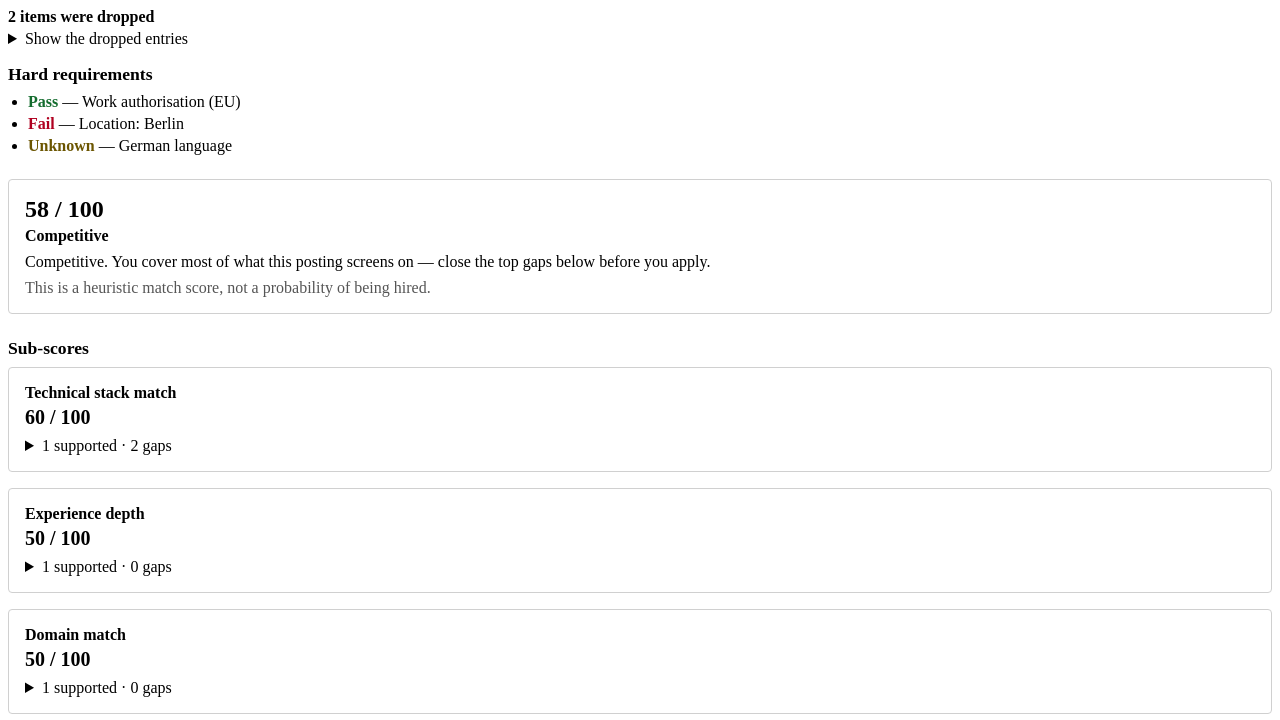
Test: FitAutoRunner — the automatic second call (FIT-03 Deliverable 7; plan D3/D9) › [machine] 200 renders the full report INCLUDING the fresh dropped payload, with NO partial note
Check: the text "This is a heuristic match score, not a probability of being hired." is shown, box [25,279,431,296]
Check: the text "2 items were dropped" is shown, box [8,8,154,25]
Click the heading "Show the dropped entries": (106,38) [25,30,188,47]
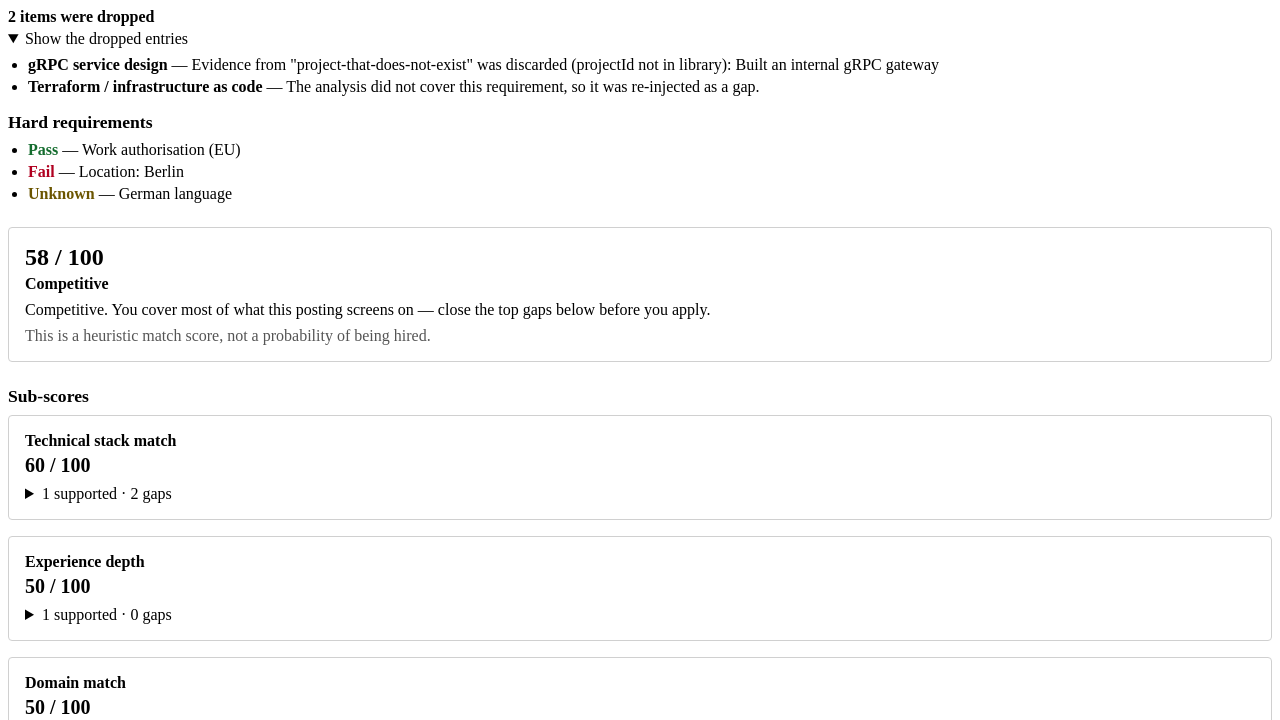
Check: the text "58 / 100" is shown, box [25,244,104,270]
Check: the list item "project-that-does-not-exist" is shown, box [192,56,939,73]
